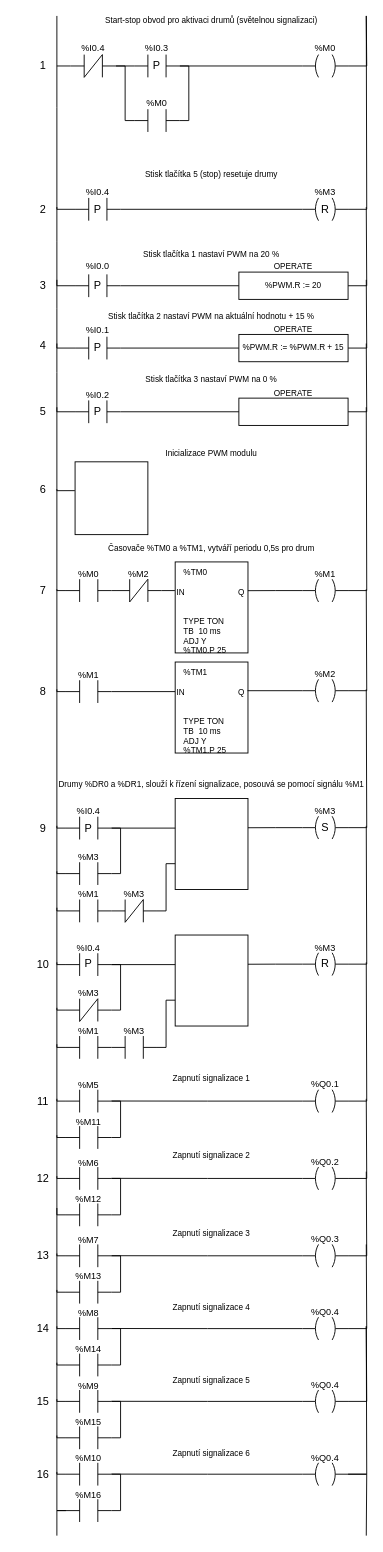
This 383x1552 diagram has some shape labels left out. The shapes that lost their labels are listed below. From the top down, each one's centre as x and y in pixels, then its label:
point 293,411: %PWM.R := 0
point 111,498: %PWM IN TB .1 ms PRESET 100
point 211,844: %DR0 R F U STEPS 7
point 211,980: %DR1 R F U STEPS 7
